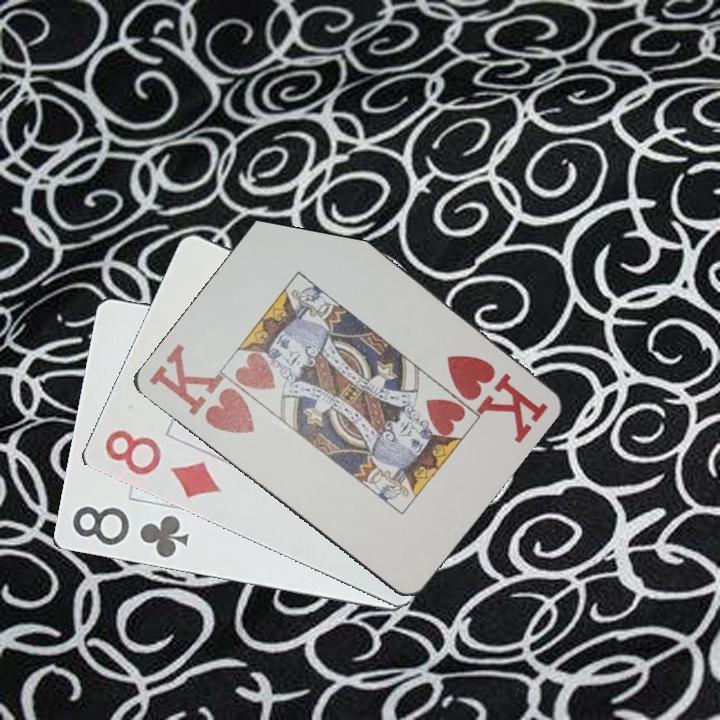8c: (68, 502, 192, 561)
8d: (100, 425, 224, 502)
Kh: (144, 342, 258, 439), (442, 351, 551, 443)
